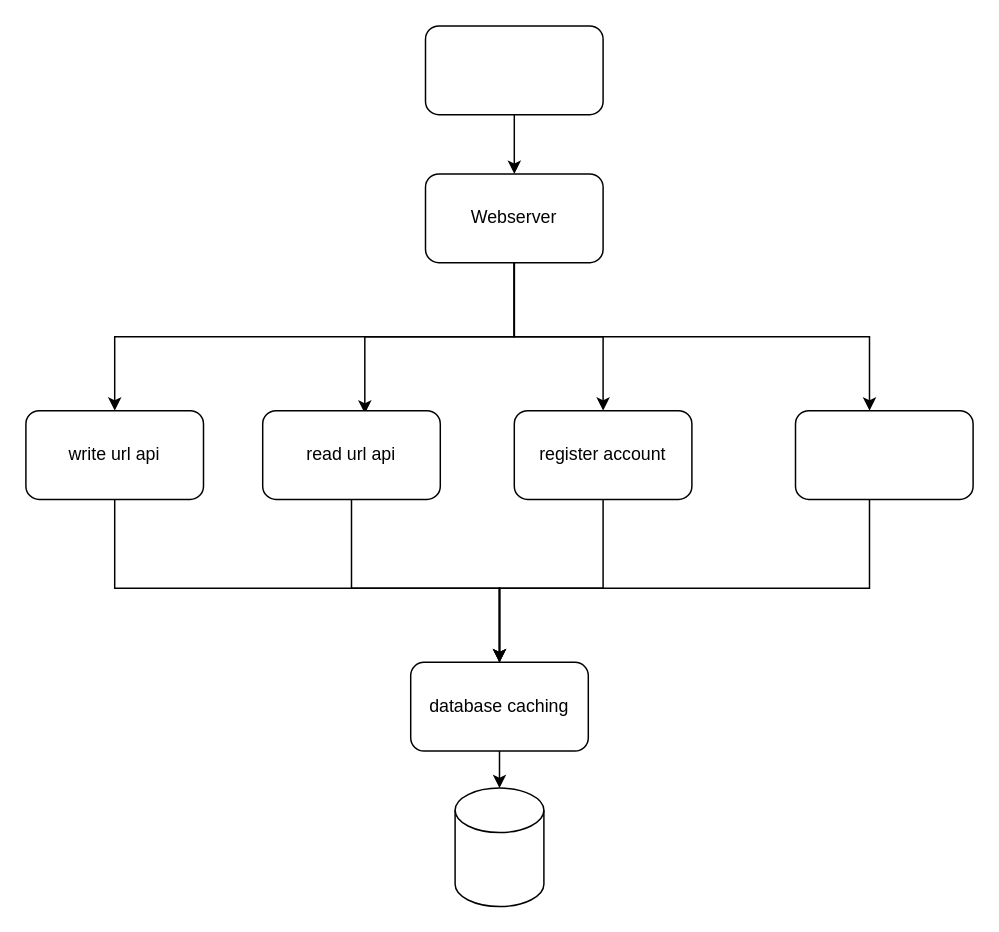
Some shapes in this 999 by 932 pixel diagram are drawn without their labels. Here are the shapes that lost their labels. From the top down, the centre of each, then its label:
At (513,69): "client".
At (499,846): "mongo db".
